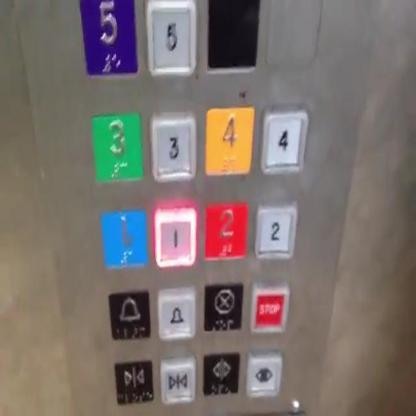1: (152, 203, 198, 269), (100, 210, 148, 267)
2: (202, 197, 250, 263), (255, 202, 298, 258)
3: (90, 112, 144, 182), (148, 109, 197, 184)
4: (205, 107, 254, 174), (259, 110, 308, 173)
5: (78, 0, 138, 75), (144, 0, 196, 75)
alarm: (108, 286, 152, 341), (157, 288, 196, 339)
close: (113, 356, 155, 406), (160, 358, 195, 402)
empty: (204, 0, 260, 73), (266, 0, 322, 65)
open: (200, 347, 241, 398), (246, 355, 282, 395)
stop: (201, 279, 244, 333)
text_stop: (250, 282, 290, 333)
